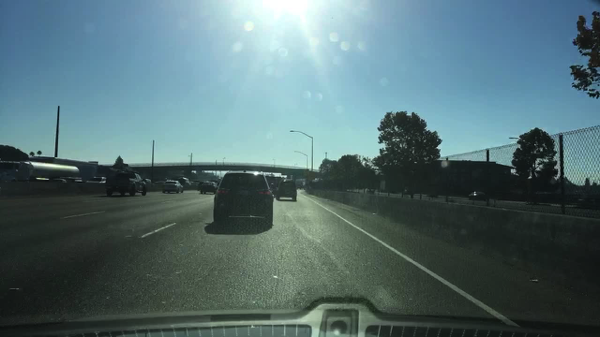car: (213, 171, 275, 228), (105, 169, 147, 197), (273, 184, 298, 202), (161, 180, 185, 194), (198, 181, 219, 195), (264, 175, 281, 187), (468, 192, 486, 201), (86, 176, 107, 183), (299, 179, 308, 190), (270, 186, 279, 197), (177, 177, 189, 185), (197, 181, 206, 191), (211, 179, 221, 185), (189, 181, 199, 187), (153, 180, 167, 184), (366, 187, 375, 193), (143, 179, 153, 182)
truck: (0, 157, 81, 183)
